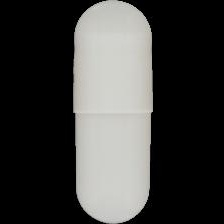0006-0461: (0, 0, 224, 224)
